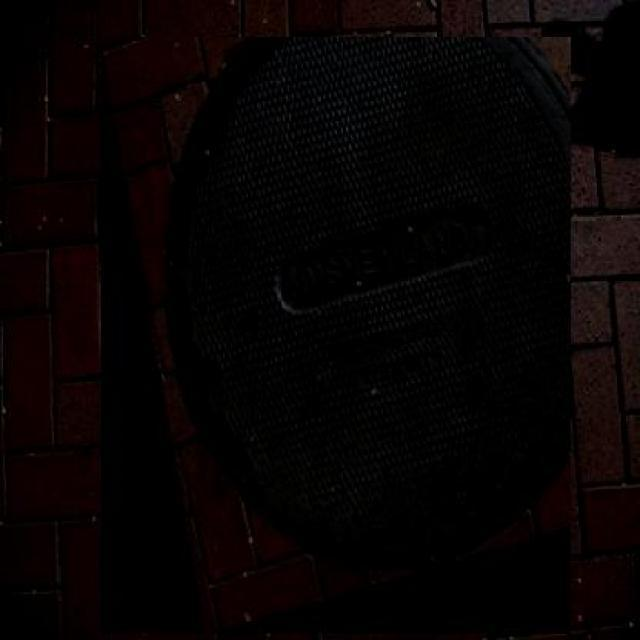Manhole: (101, 36, 572, 635)
